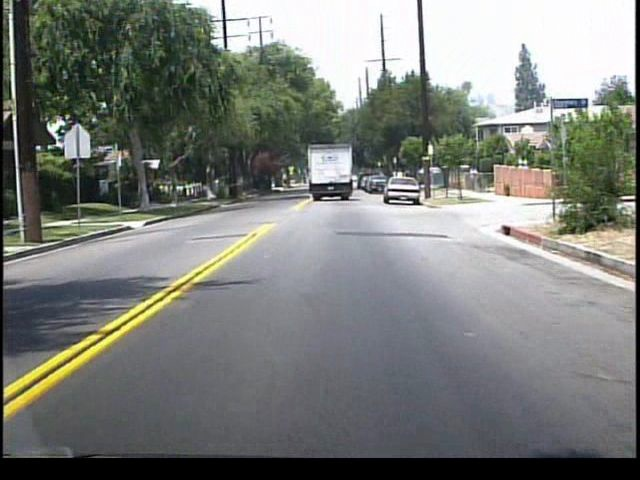person: (468, 165, 479, 191)
